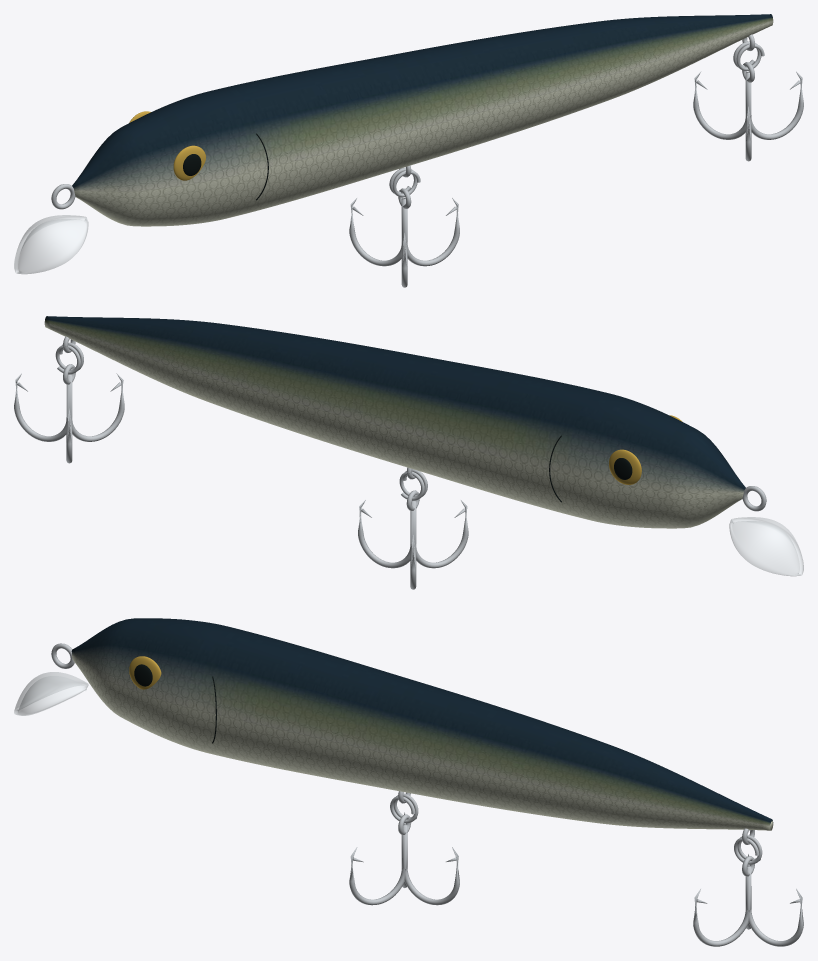
The model's file is jerkbait.glb.
3 renders of one model, top to bottom at view 1: azimuth 30°, elevation 25°; view 2: azimuth 150°, elevation 25°; view 3: azimuth 330°, elevation 25°, orthographic.
Parts seen in each view (by area): view 1: jerkbait specimen; view 2: jerkbait specimen; view 3: jerkbait specimen.
Boxes of the visible parts, <box> form: jerkbait specimen: <box>14,14,803,287</box>; jerkbait specimen: <box>14,316,803,589</box>; jerkbait specimen: <box>14,618,803,946</box>.
Bounding box in the file's own units: 2.06 × 0.5585 × 0.254.
Materials: 5 (1 with a texture image).
